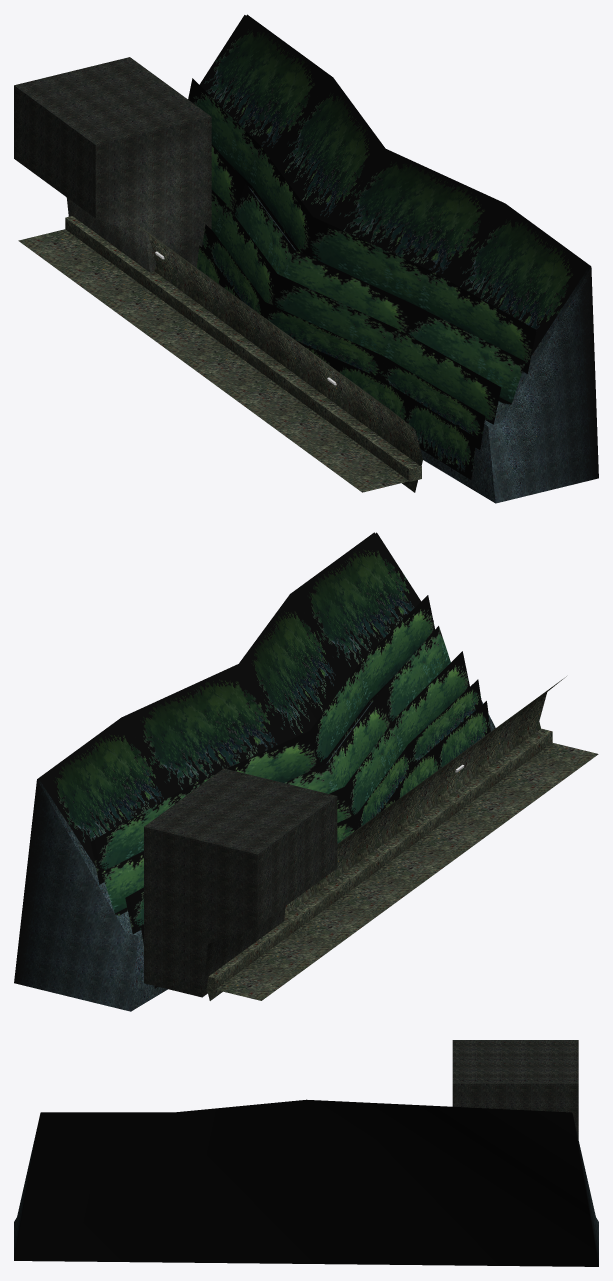
The model's file is OUSA01_L.glb.
The picture shows the model from 3 angles, top to bottom: view 1: azimuth 30°, elevation 25°; view 2: azimuth 150°, elevation 25°; view 3: azimuth 270°, elevation 25°; orthographic projection. The views are drawn at different scales.
Parts seen in each view (by area): view 1: Model, Joint_1; view 2: Model, Joint_1; view 3: Model, Joint_1.
Boxes of the visible parts, <box> form: Model: <box>18,14,598,503</box>; Joint_1: <box>14,57,211,272</box>; Model: <box>14,532,598,1011</box>; Joint_1: <box>144,768,337,997</box>; Model: <box>14,1099,598,1266</box>; Joint_1: <box>452,1040,578,1139</box>.
Size of the model in its own units: 39.47 by 31.64 by 110.
6 materials, 4 textured.
